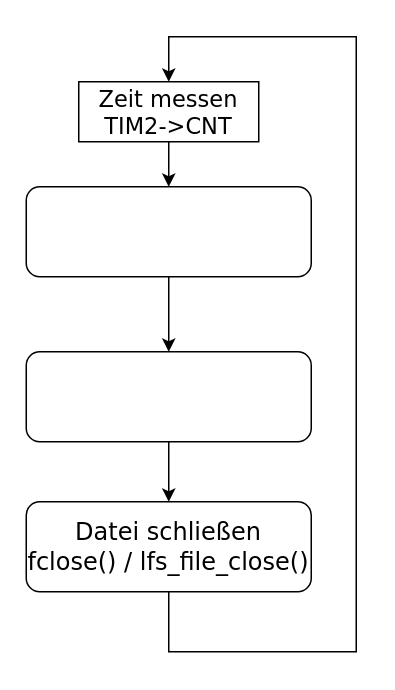
Image size: 395x690. Some labels were removed from this diagram. The shapes that lost their labels are listed below. From the top down, each one's centre as x and y in pixels, then its label:
At point 168,231: "Neue Datei öffnen/erstellen fopen() / lfs_file_open()".
At point 168,396: "Datei beschreiben mit 1024 Bytes fwrite() / lfs_file_write()".
